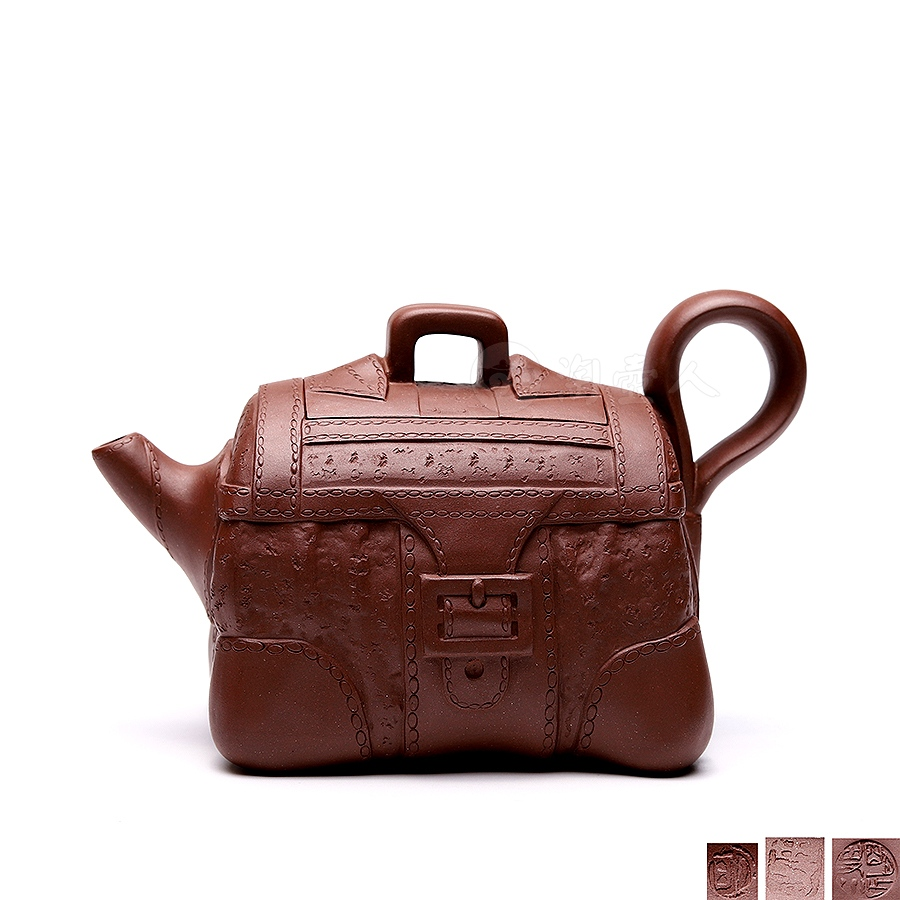cartera: (71, 272, 833, 801)
cuero: (292, 543, 599, 681)
